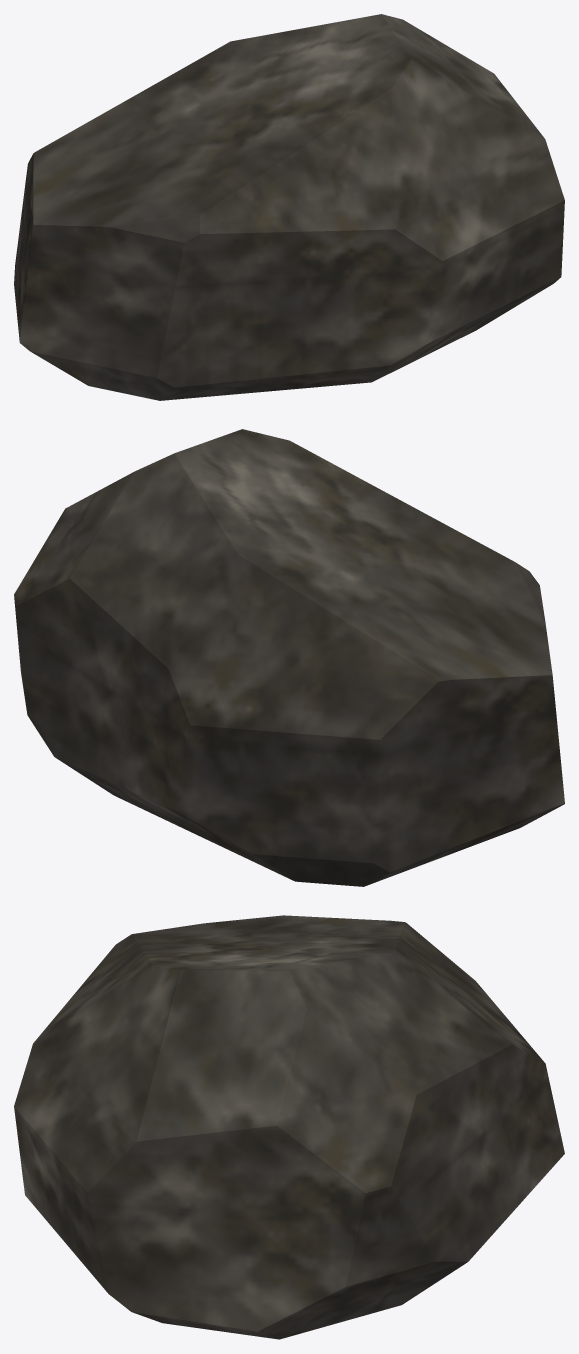
File: Rocha-04-Cunha.glb
3 renders of one model, top to bottom at view 1: azimuth 30°, elevation 25°; view 2: azimuth 150°, elevation 25°; view 3: azimuth 270°, elevation 25°, orthographic. The views are drawn at different scales.
Parts seen in each view (by area): view 1: Cunha pequena; view 2: Cunha pequena; view 3: Cunha pequena.
Part boxes in pixels (x1,y1,x2,y2): Cunha pequena: (14, 14, 564, 400); Cunha pequena: (14, 429, 564, 886); Cunha pequena: (14, 915, 564, 1339).
Bounding box in the file's own units: 0.9181 × 0.52 × 0.7868.
Materials: 1 (1 with a texture image).
